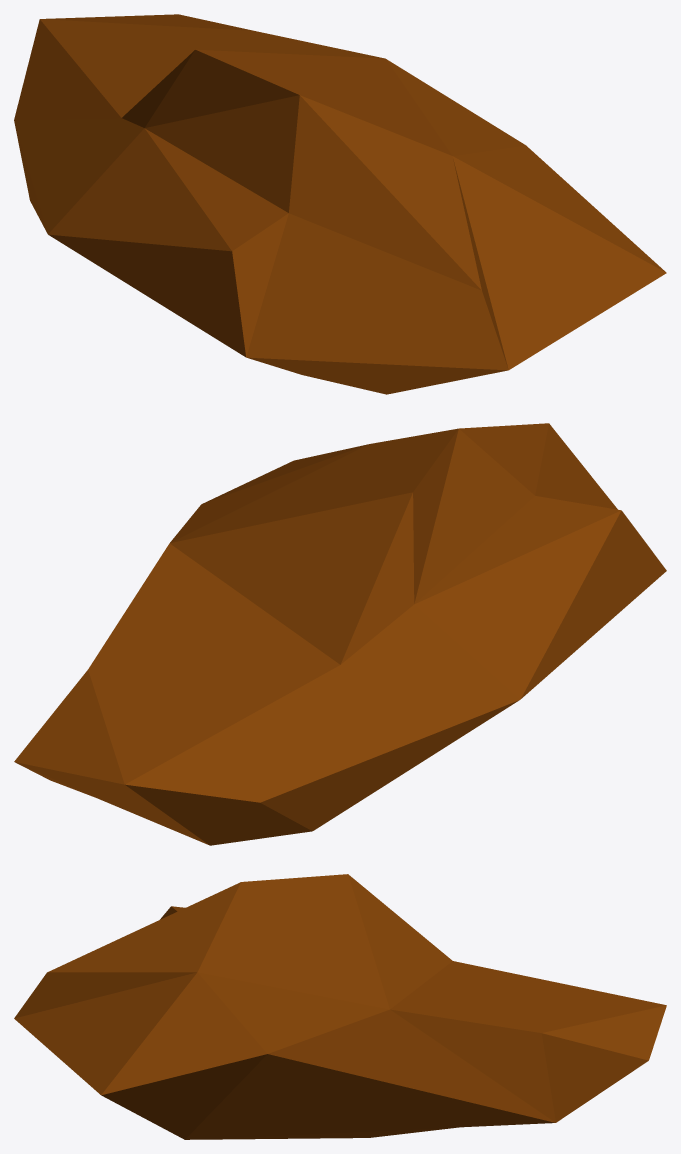
Rendered from Roca 4.fbx.
3 views of the same model, one above another, from view 1: azimuth 30°, elevation 25°; view 2: azimuth 150°, elevation 25°; view 3: azimuth 270°, elevation 25° (orthographic). The views are drawn at different scales.
Parts seen in each view (by area): view 1: ROCA 4; view 2: ROCA 4; view 3: ROCA 4.
Boxes of the visible parts, x1,y1,x2,y2 form: ROCA 4: [14, 14, 666, 394]; ROCA 4: [14, 423, 666, 845]; ROCA 4: [14, 874, 666, 1139].
Size of the model in its own units: 271 by 171 by 510.
